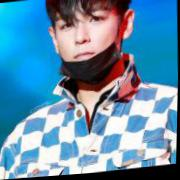WRONG: (55, 1, 122, 85)
